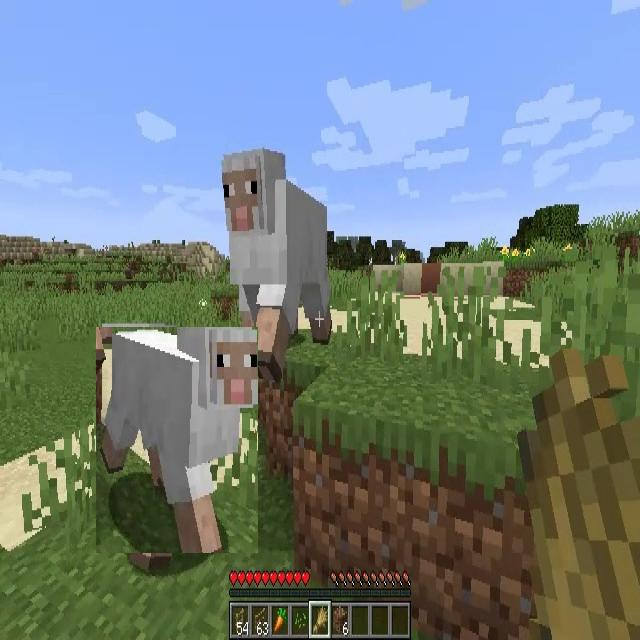sheep: (96, 328, 258, 554), (220, 153, 334, 344)
